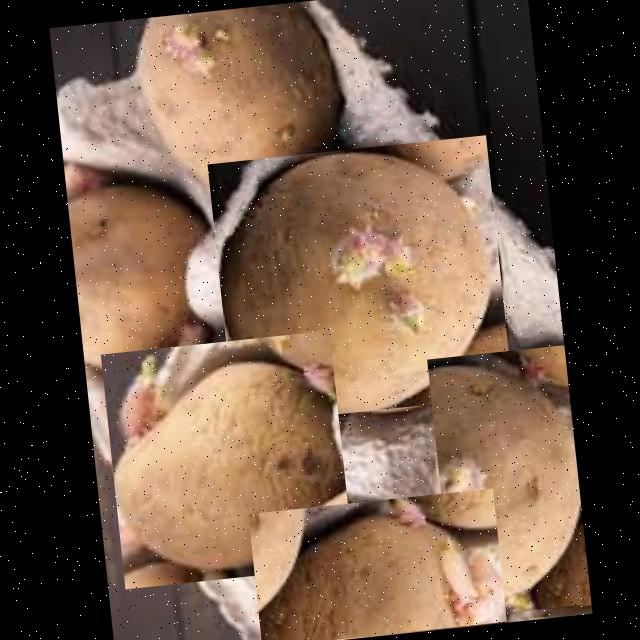Sprouted potato: (207, 134, 513, 424), (100, 329, 354, 588), (117, 0, 345, 230), (427, 344, 591, 616), (247, 487, 506, 640)
